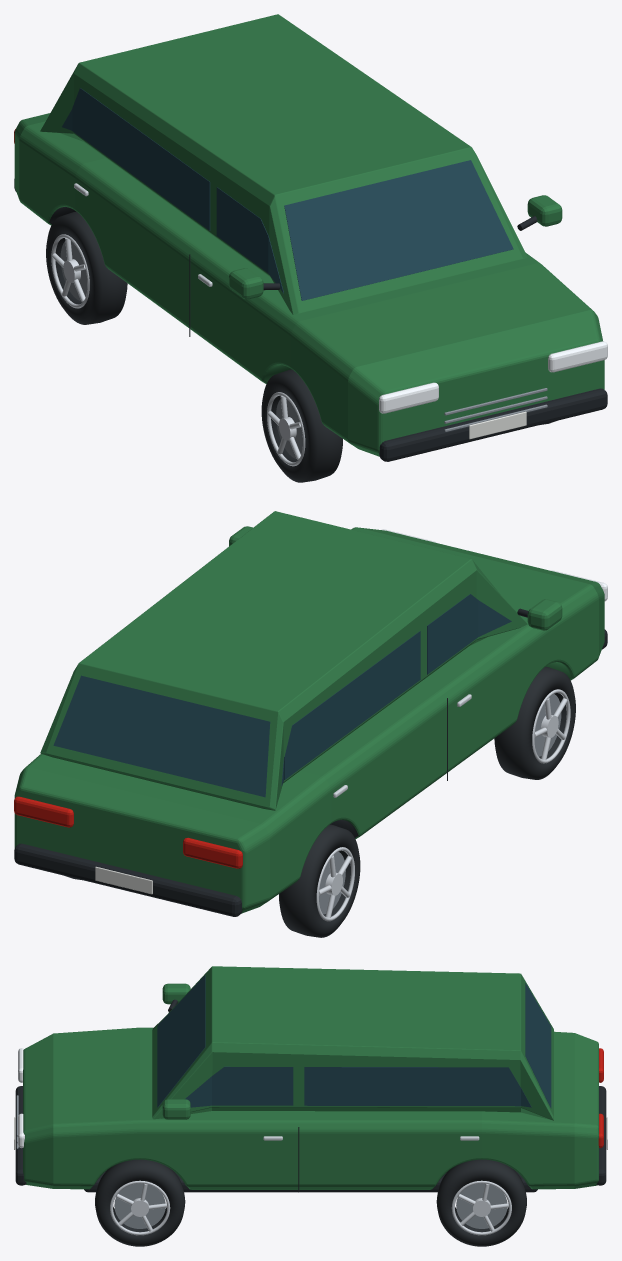
The model's file is expedition-suv.glb.
3 views of the same model, one above another, from view 1: azimuth 30°, elevation 25°; view 2: azimuth 150°, elevation 25°; view 3: azimuth 270°, elevation 25° (orthographic). The views are drawn at different scales.
Visible parts, largest first — view 1: Coachwork lower body, Cab and roof, Front windscreen, Rear side glass, Front_tire, Rear_tire, Bumper, Front side glass.001, Headlamp, Headlamp.001, Mirror shell, Blank registration panel (+3 smaller); view 2: Coachwork lower body, Cab and roof, Rear windscreen, Rear side glass, Rear_tire, Front_tire, Bumper.001, Front side glass.001, Tail lamp.001, Tail lamp, Mirror shell, Blank registration panel.001 (+5 smaller); view 3: Coachwork lower body, Cab and roof, Rear side glass.002, Rear_tire.001, Front_tire.001, Front windscreen, Front side glass.003, Rear windscreen, Front_brake.001, Rear_brake.001, Underbody, Bumper.001 (+6 smaller).
Part boxes in pixels (x1,y1,x2,y2): Coachwork lower body: (14, 113, 604, 456); Cab and roof: (40, 14, 527, 314); Front windscreen: (284, 160, 513, 300); Rear side glass: (72, 88, 210, 230); Front_tire: (261, 369, 342, 482); Rear_tire: (46, 211, 127, 324); Bumper: (379, 388, 607, 461); Front side glass.001: (216, 187, 268, 272); Headlamp: (379, 382, 438, 413); Headlamp.001: (548, 341, 607, 372); Mirror shell: (229, 268, 263, 299); Blank registration panel: (469, 411, 526, 439); Coachwork lower body: (14, 527, 604, 913); Cab and roof: (40, 511, 527, 810); Rear windscreen: (53, 675, 270, 797); Rear side glass: (284, 631, 420, 779); Rear_tire: (279, 824, 360, 937); Front_tire: (494, 666, 575, 779); Bumper.001: (14, 843, 242, 916); Front side glass.001: (427, 594, 478, 674); Tail lamp.001: (14, 796, 73, 827); Tail lamp: (183, 837, 242, 868); Mirror shell: (527, 599, 562, 630); Blank registration panel.001: (95, 866, 152, 894); Coachwork lower body: (23, 1027, 598, 1189); Cab and roof: (152, 966, 553, 1120); Rear side glass.002: (304, 1067, 520, 1106); Rear_tire.001: (436, 1159, 526, 1246); Front_tire.001: (95, 1159, 185, 1246); Front windscreen: (157, 975, 205, 1107); Front side glass.003: (212, 1066, 293, 1105); Rear windscreen: (525, 983, 551, 1108); Front_brake.001: (114, 1183, 165, 1228); Rear_brake.001: (456, 1183, 507, 1228); Underbody: (84, 1170, 537, 1192); Bumper.001: (596, 1086, 606, 1185).
Size of the model in its own units: 2.4 by 1.75 by 4.87.
